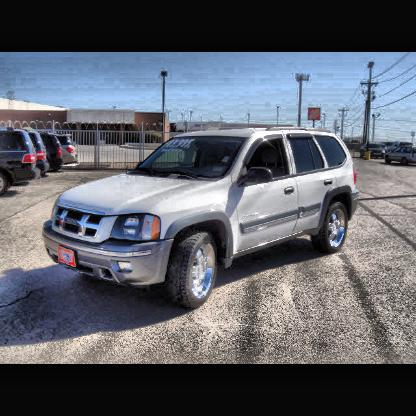Isuzu Ascender SUV 2008: (39, 132, 360, 308)
